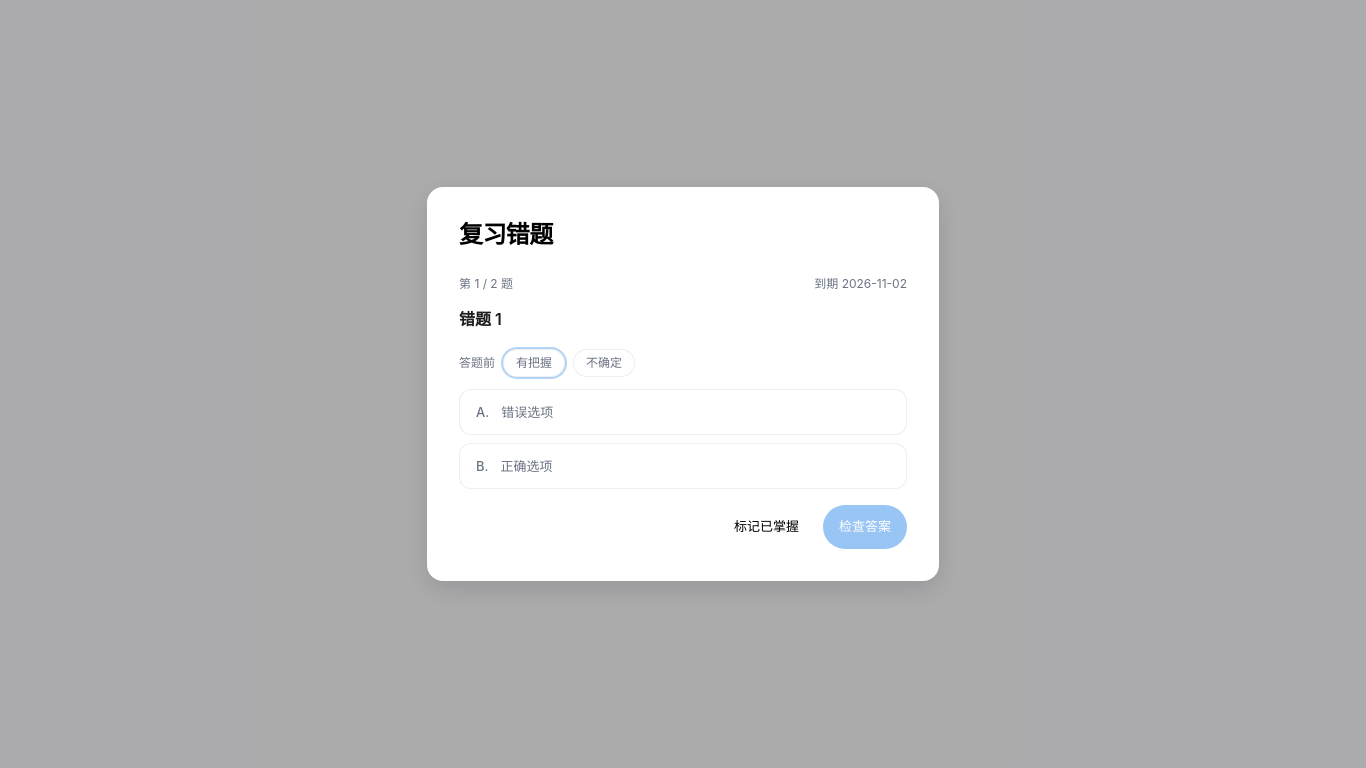
it: passes the picked confidence with a choice review, and none when unmarked
The width and height of the screenshot is (1366, 768).
Unmarked: the request keeps its pre-feature shape.
Click the button "B. 正确选项".
click(527, 466)  # box left=459, top=443, right=907, bottom=489
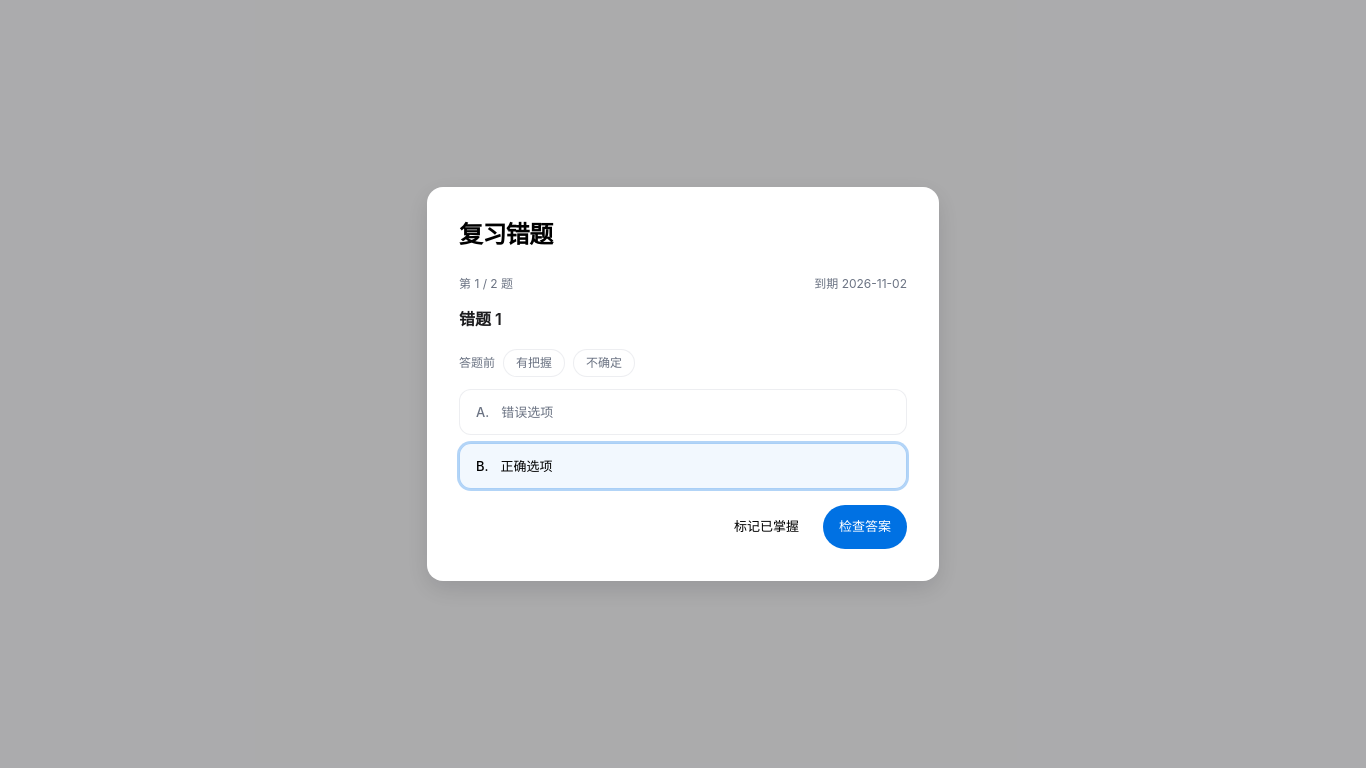
Click the button "检查答案".
click(865, 527)  # box left=823, top=505, right=907, bottom=549
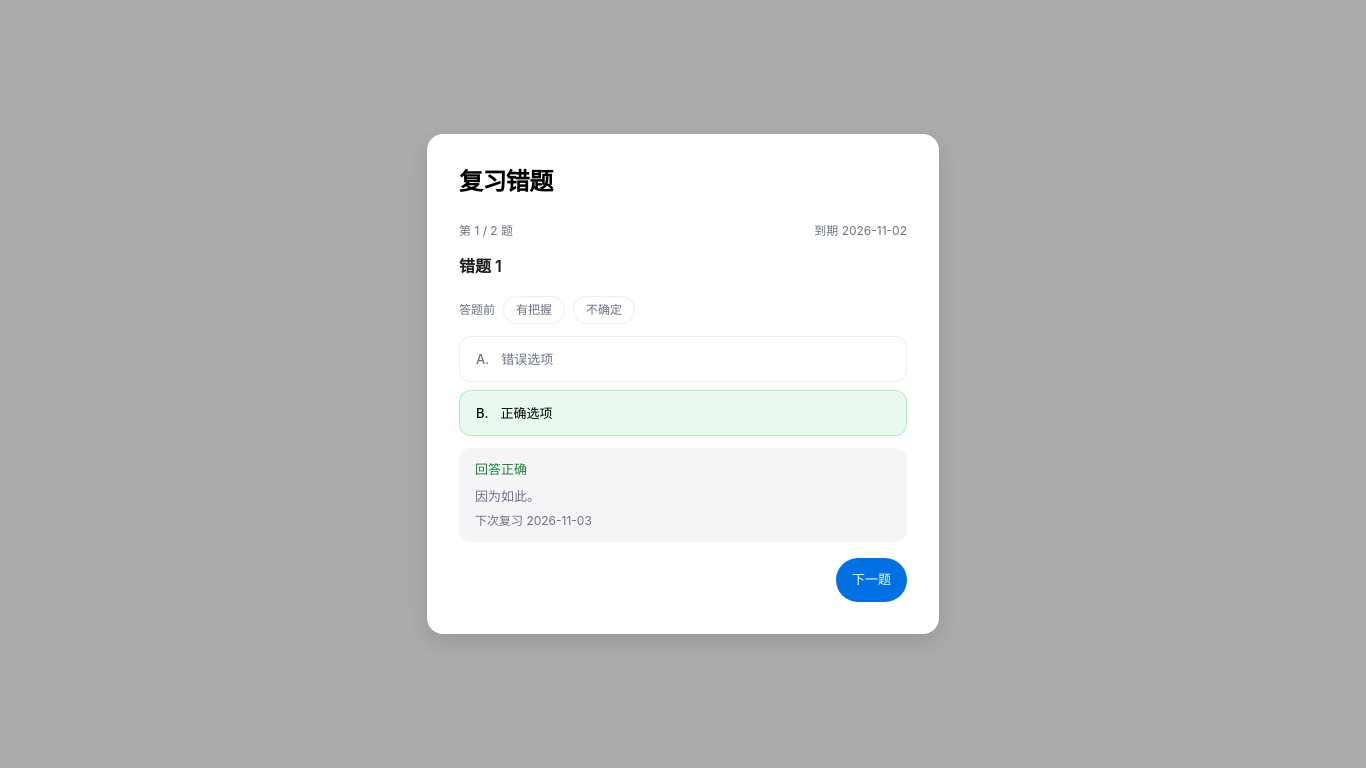
Result: the text "回答正确" is shown at left=475, top=461, right=527, bottom=477
Next question, this time marked 不确定.
Click the button "下一题".
click(872, 580)  # box left=836, top=558, right=907, bottom=602
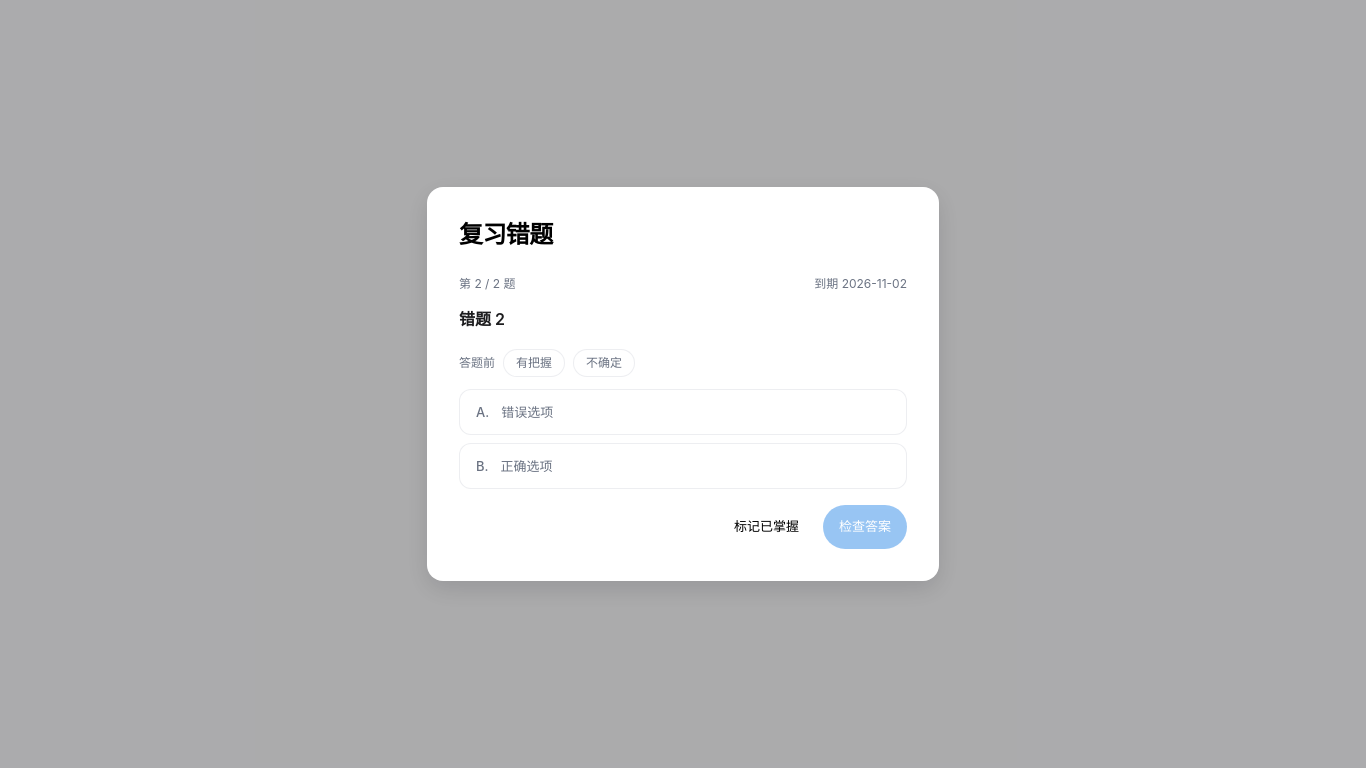
Click the button "不确定".
click(604, 363)  # box left=573, top=349, right=635, bottom=377
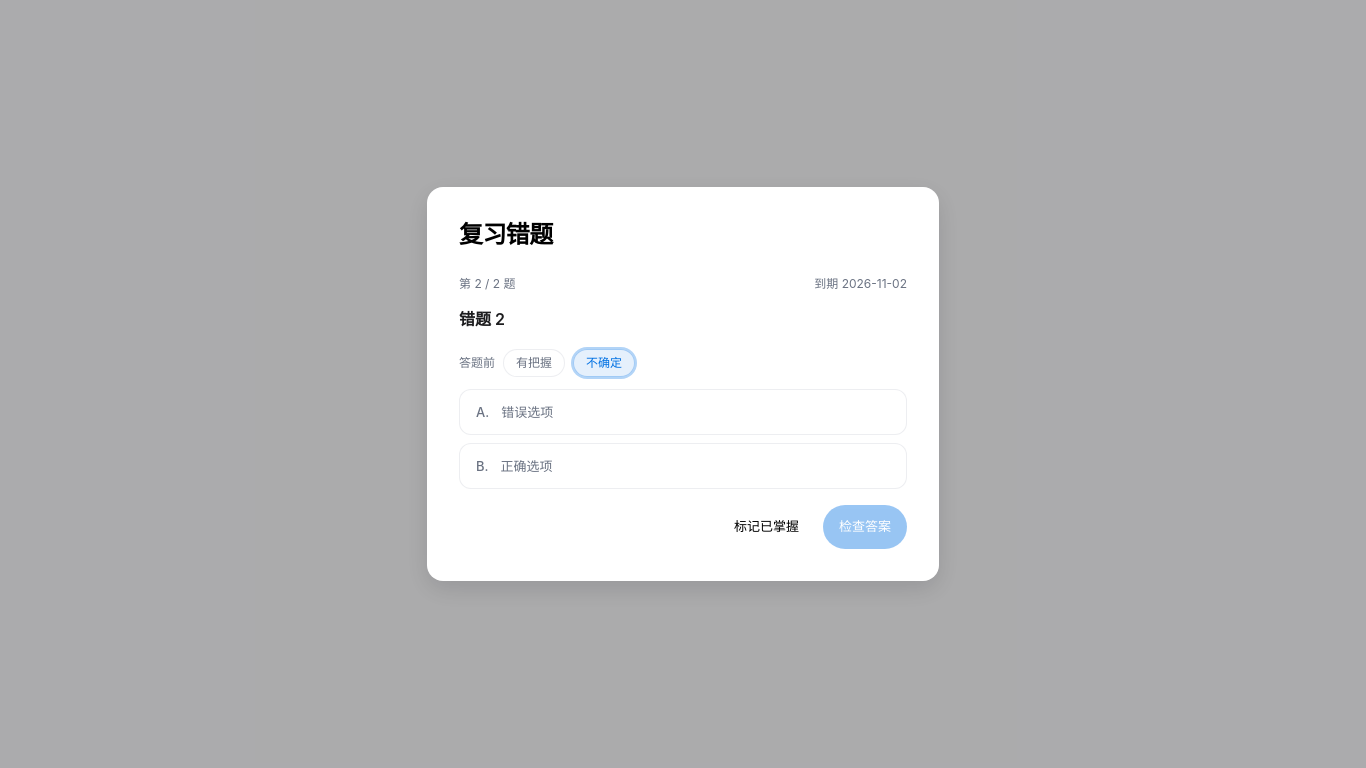
Result: the button "不确定" is pressed at left=573, top=349, right=635, bottom=377
Click the button "B. 正确选项".
click(527, 466)  # box left=459, top=443, right=907, bottom=489
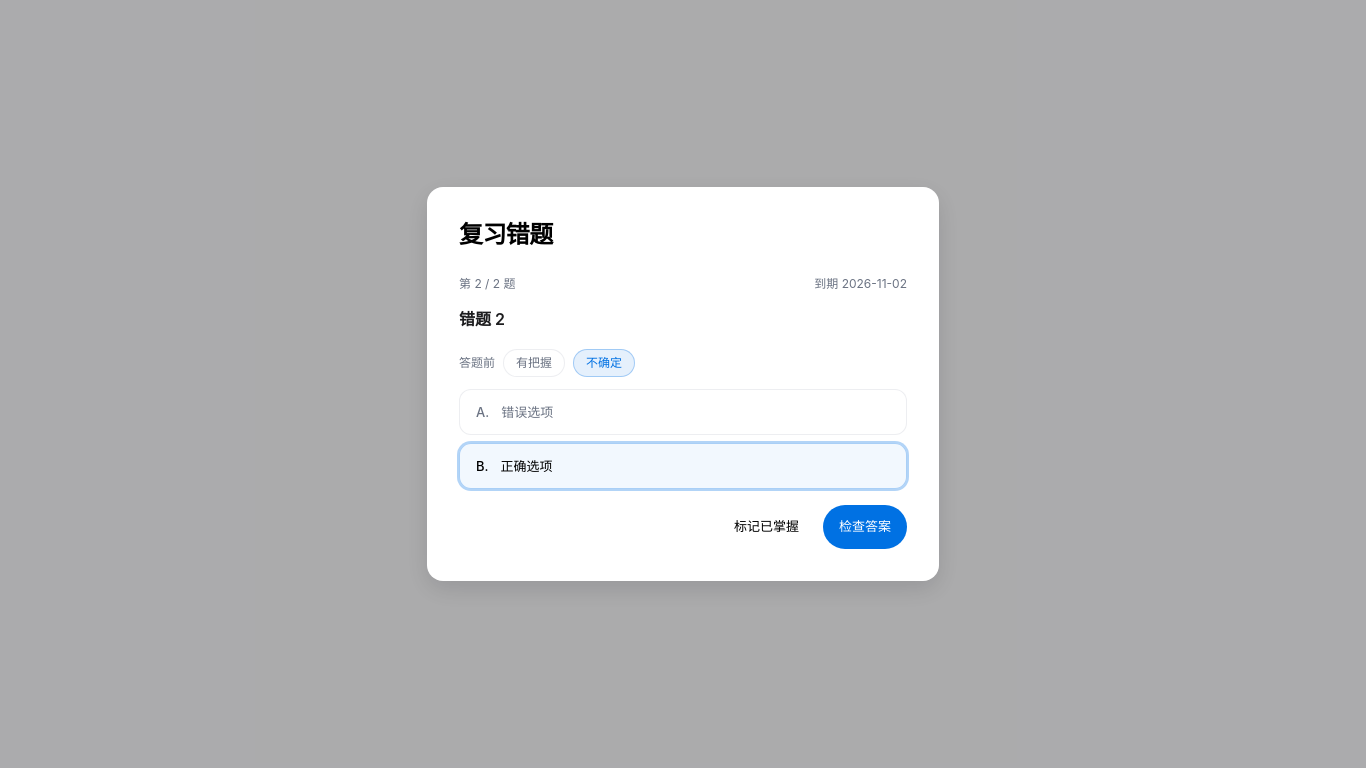
Click the button "检查答案".
click(865, 527)  # box left=823, top=505, right=907, bottom=549
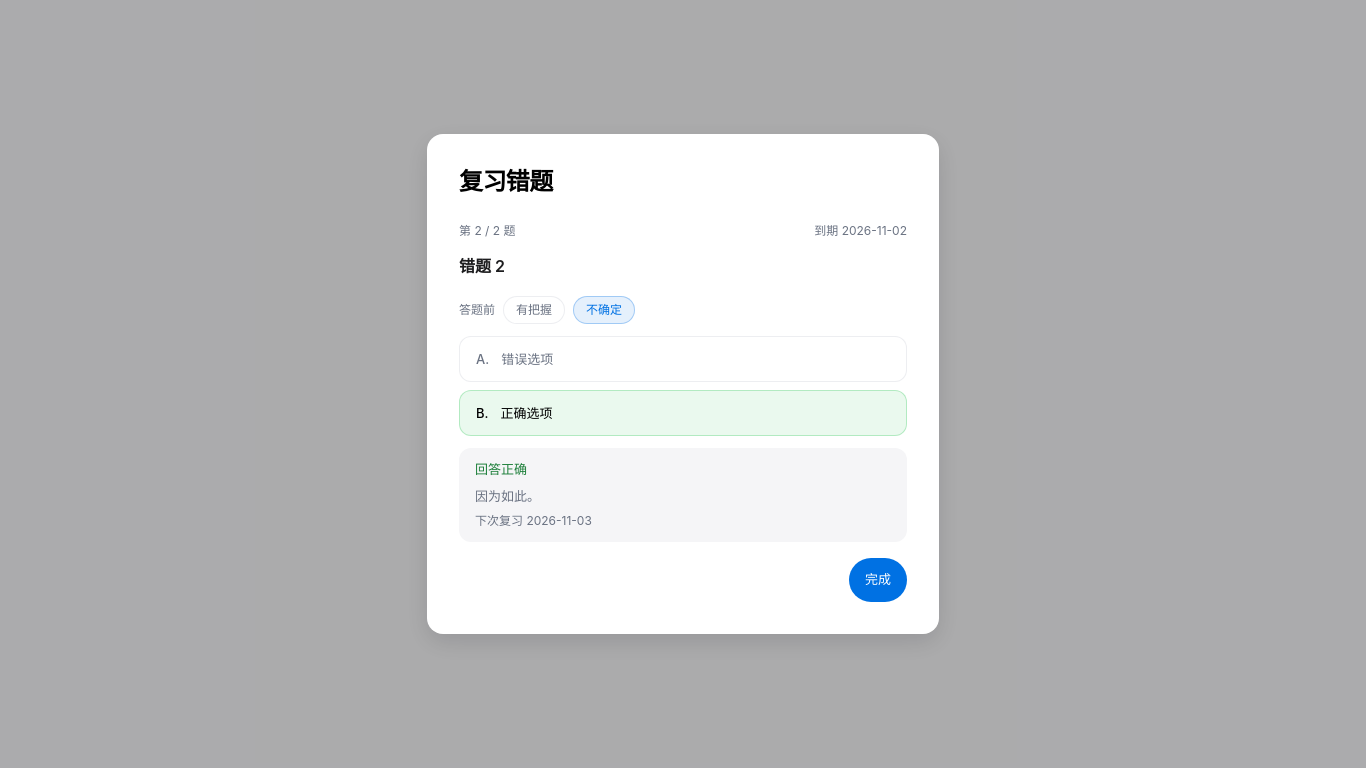
Result: the text "回答正确" is shown at left=475, top=461, right=527, bottom=477
